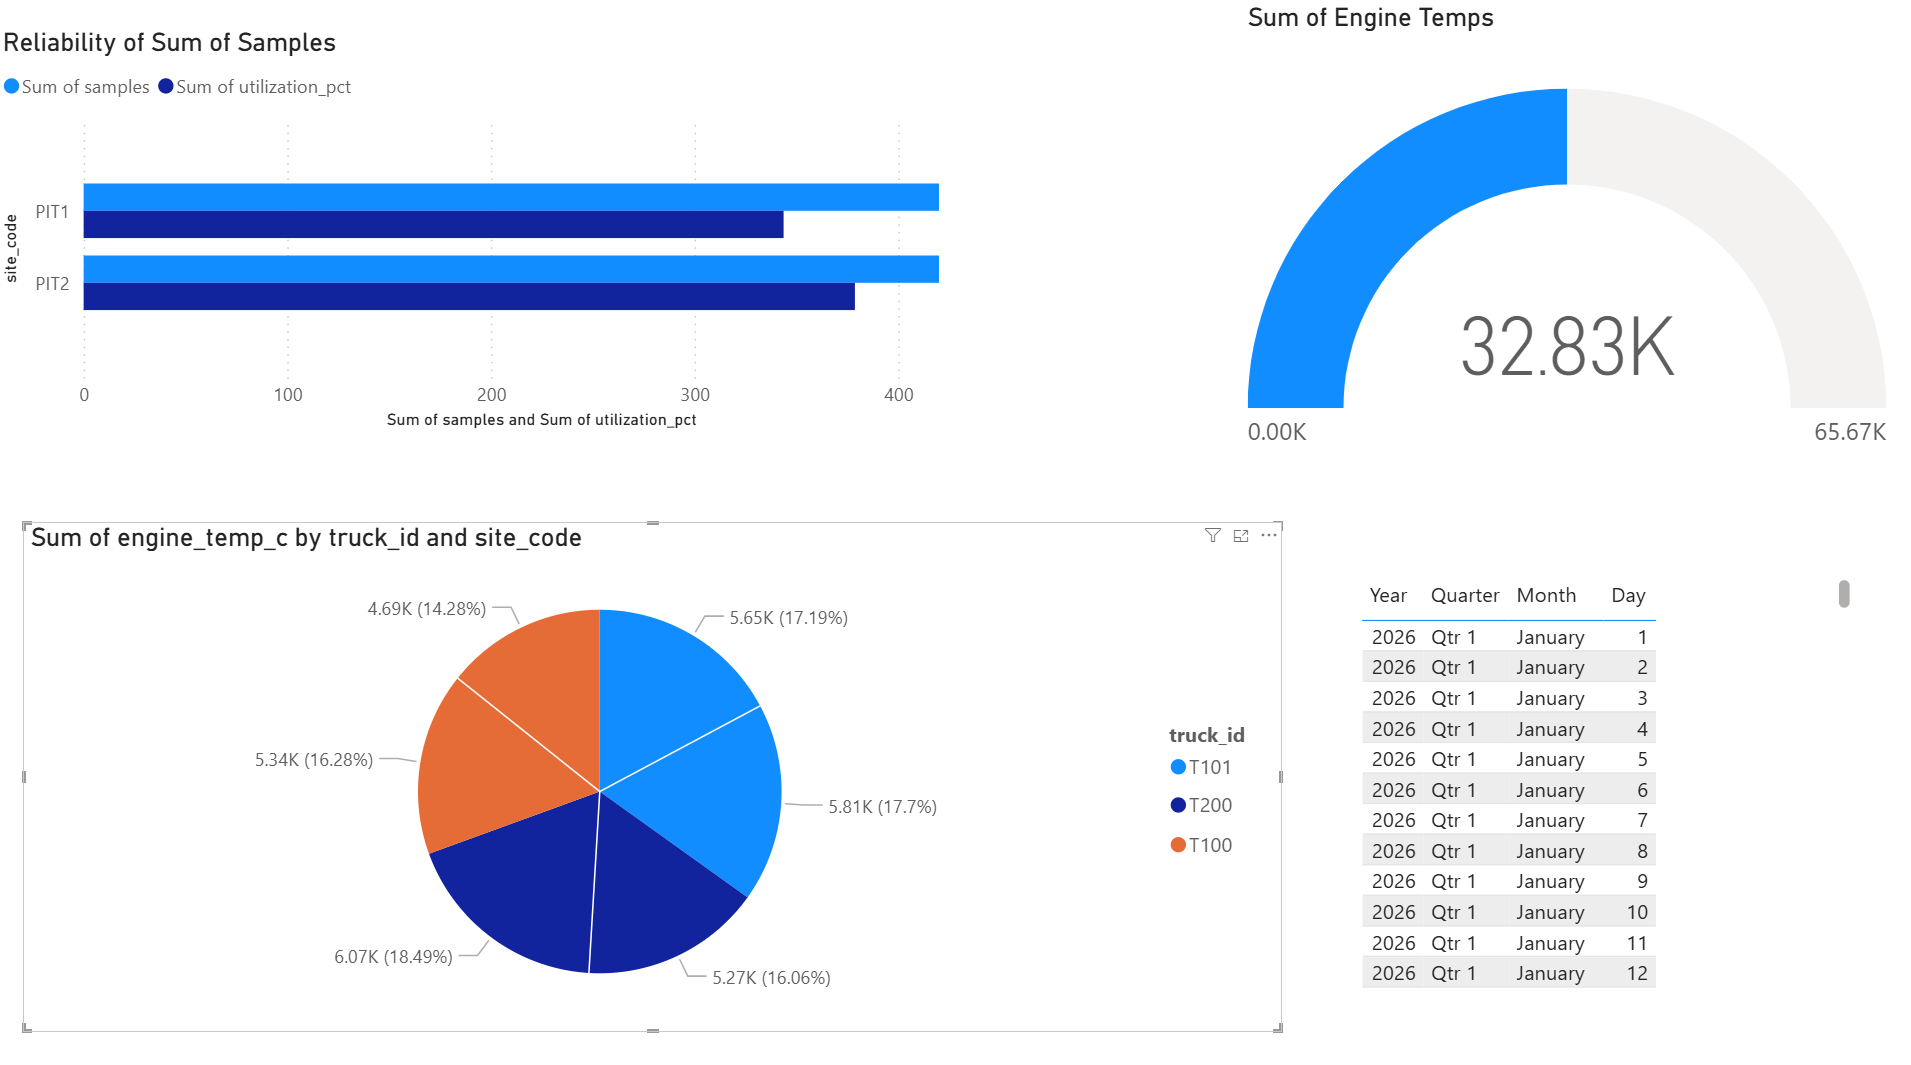

What the dashboard file says about the page in this screenshot:
{"tool":"powerbi","page":{"name":"Reliability","canvas":[1280,720],"ordinal":3},"visuals":[{"type":"tableEx","fields":{"Values":["vw_kpi_utilization.date_value.Variation.Date Hierarchy.Year","vw_kpi_utilization.date_value.Variation.Date Hierarchy.Quarter","vw_kpi_utilization.date_value.Variation.Date Hierarchy.Month","vw_kpi_utilization.date_value.Variation.Date Hierarchy.Day"]},"box":[888.7,376.9,331.1,280.1],"z":0},{"type":"clusteredBarChart","title":"Reliability of Sum of Samples","fields":{"Y":["Sum(vw_kpi_utilization.samples)","Sum(vw_kpi_utilization.utilization_pct)"],"Category":["vw_kpi_utilization.site_code"]},"box":[0,20.9,672.7,267.6],"z":1},{"type":"pieChart","fields":{"Category":["vw_kpi_overheat_events.truck_id"],"Series":["vw_kpi_overheat_events.site_code"],"Y":["Sum(vw_kpi_overheat_events.engine_temp_c)"]},"box":[18.3,344.9,823.9,333.7],"z":2},{"type":"gauge","title":"Sum of Engine Temps","fields":{"Y":["Sum(vw_kpi_overheat_events.engine_temp_c)"]},"box":[814.7,4.6,428,334.4],"z":3}]}

Visuals, with their boxes in screenshot pixels (x1, y1, x2, y2), scaled from the page's 1280x720 canvas onto the 1911x1065 screenshot:
tableEx - vw_kpi_utilization.date_value.Variation.Date Hierarchy.Year x vw_kpi_utilization.date_value.Variation.Date Hierarchy.Quarter: <region>1327, 557, 1821, 972</region>
"Reliability of Sum of Samples" clusteredBarChart: <region>0, 31, 1004, 427</region>
pieChart - vw_kpi_overheat_events.truck_id x vw_kpi_overheat_events.site_code: <region>27, 510, 1257, 1004</region>
"Sum of Engine Temps" gauge: <region>1216, 7, 1855, 501</region>
